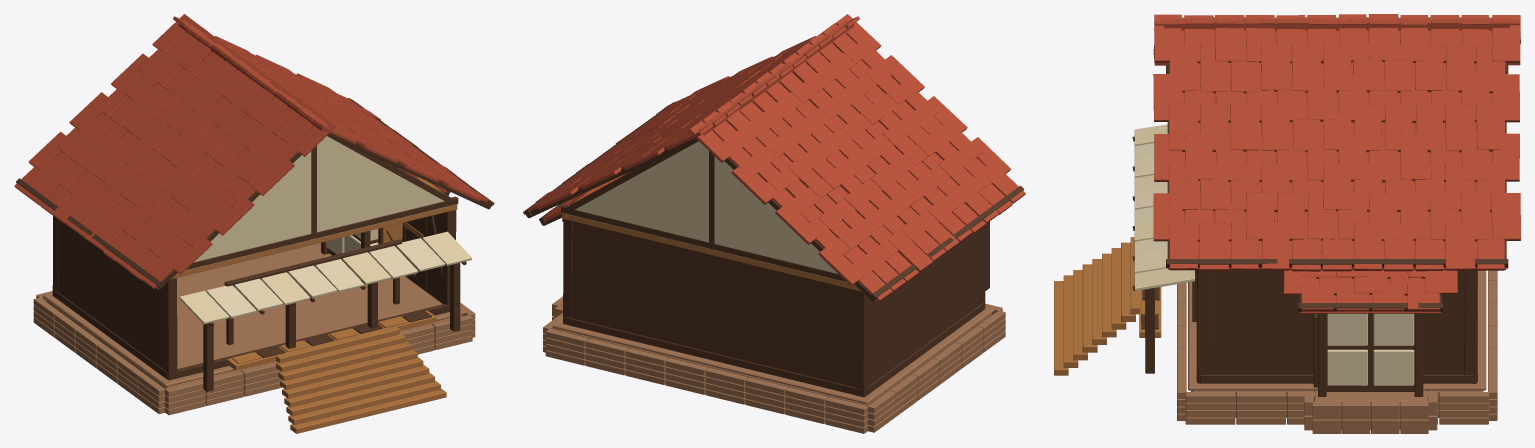
The model's file is building_village_market_hall_b.glb.
3 views of the same model, side by side, from view 1: azimuth 30°, elevation 25°; view 2: azimuth 150°, elevation 25°; view 3: azimuth 270°, elevation 25° (orthographic). The views are drawn at different scales.
Visible parts, largest first — view 1: building_village_market_hall_b_LOD0; view 2: building_village_market_hall_b_LOD0; view 3: building_village_market_hall_b_LOD0.
Part boxes in pixels (left/top/right/bottom): building_village_market_hall_b_LOD0: left=14, top=14, right=494, bottom=433; building_village_market_hall_b_LOD0: left=523, top=14, right=1025, bottom=433; building_village_market_hall_b_LOD0: left=1054, top=14, right=1520, bottom=433.
Size of what is drawn, in the model's own units: 11.33 by 7.96 by 10.72.
